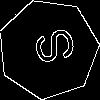S: (23, 24, 78, 71)
